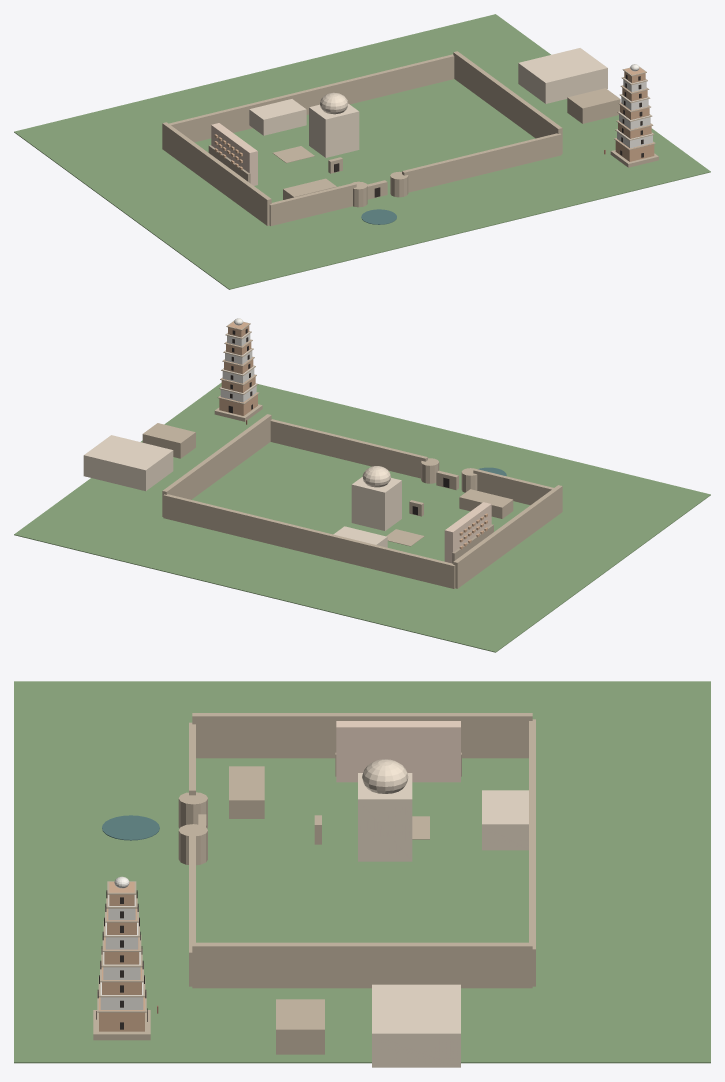
The model's file is kumbha-palace.glb.
The picture shows the model from 3 angles, top to bottom: view 1: azimuth 30°, elevation 25°; view 2: azimuth 150°, elevation 25°; view 3: azimuth 270°, elevation 25°; orthographic projection. The views are drawn at different scales.
Parts seen in each view (by area): view 1: Ground, WallNorth, WallSouthRight, FatehPrakash, WallWest, WallEast, DomeBlock, WallSouthLeft, Diwan, NauLakhaBandar, WestFacade, Stables (+4 smaller); view 2: Ground, WallNorth, FatehPrakash, WallSouthRight, WallWest, WallEast, DomeBlock, WallSouthLeft, WestFacade, NauLakhaBandar, Stables, Diwan; view 3: Ground, WallEast, WallWest, FatehPrakash, WestFacade, DomeBlock, Diwan, NauLakhaBandar, Stables, WallNorth, GreatDome, JauharKund (+6 smaller).
Boxes of the visible parts, x1,y1,x2,y2 form: Ground: (14,14,710,289); WallNorth: (169,54,454,142); WallSouthRight: (402,133,561,192); FatehPrakash: (518,48,607,103); WallWest: (162,122,271,225); WallEast: (453,51,562,153); DomeBlock: (309,104,359,157); WallSouthLeft: (269,183,356,226); Diwan: (249,99,306,135); NauLakhaBandar: (567,88,620,123); WestFacade: (211,123,257,185); Stables: (283,178,336,199); Ground: (14,382,710,652); WallNorth: (163,494,455,588); FatehPrakash: (83,435,173,491); WallSouthRight: (270,419,427,478); WallWest: (453,485,562,588); WallEast: (162,414,271,516); DomeBlock: (351,477,401,530); WallSouthLeft: (473,469,553,505); WestFacade: (444,502,491,563); NauLakhaBandar: (142,423,195,458); Stables: (459,489,513,518); Diwan: (333,526,387,547); Ground: (14,681,710,1063); WallEast: (192,942,532,988); WallWest: (192,713,532,758); FatehPrakash: (372,984,460,1067); WestFacade: (336,721,460,782); DomeBlock: (358,773,412,861); Diwan: (482,790,528,850); NauLakhaBandar: (276,999,324,1054); Stables: (229,766,264,818); WallNorth: (529,719,535,986); GreatDome: (362,759,408,793); JauharKund: (102,815,159,840).
Size of the model in its own units: 205 by 37.52 by 156.
